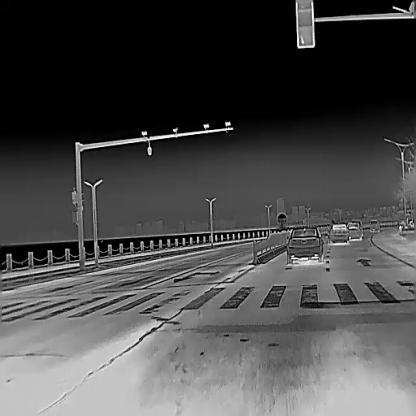car: (286, 225, 325, 263), (327, 222, 349, 244), (347, 222, 363, 240), (369, 218, 380, 231)
crosswalk: (0, 274, 416, 322)
